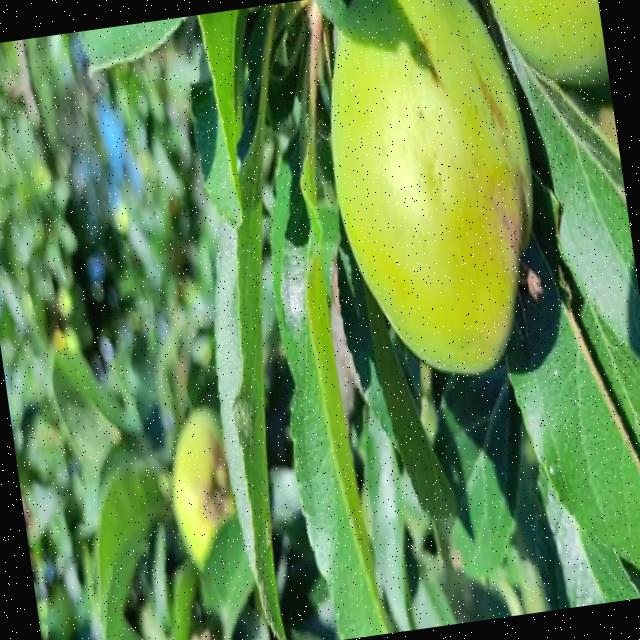Unripe: (308, 0, 559, 387)
